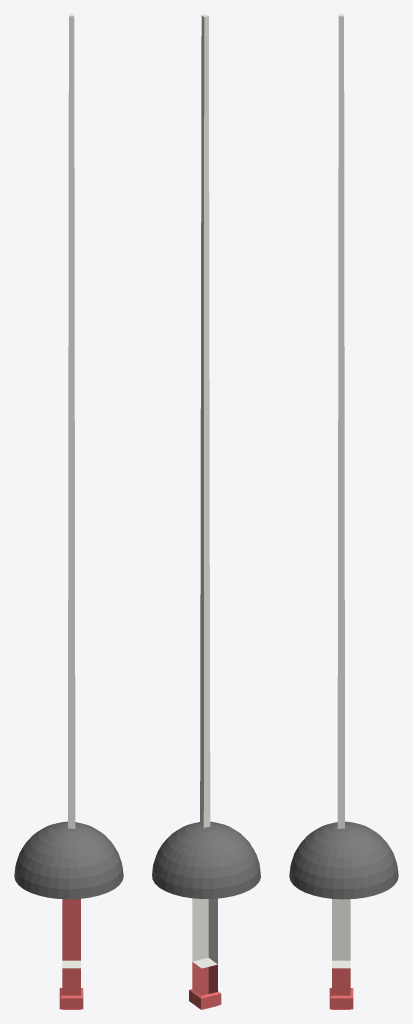
File: Rapier.ready.glb
3 renders of one model, left to right at view 1: azimuth 90°, elevation 25°; view 2: azimuth 210°, elevation 25°; view 3: azimuth 270°, elevation 25°, orthographic.
Visible parts, largest first — view 1: Rapier; view 2: Rapier; view 3: Rapier.
Part boxes in pixels (box(x1,y1,x2,y2)): Rapier: box(14, 14, 123, 1009); Rapier: box(152, 14, 260, 1009); Rapier: box(289, 14, 398, 1009).
Bounding box in the file's own units: 11.64 × 116 × 11.64.
Materials: 1 (1 with a texture image).
